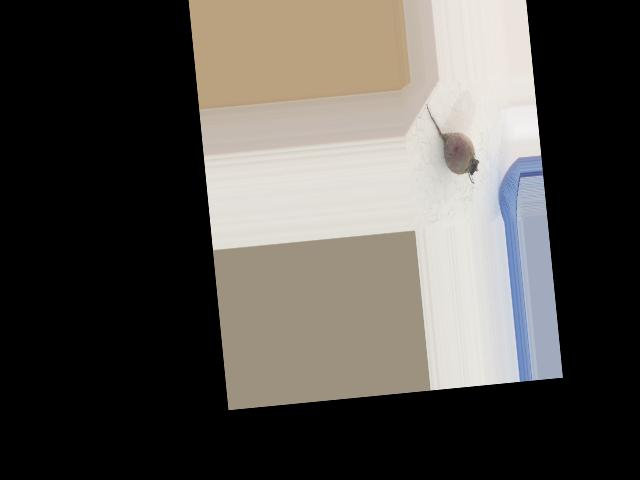beet: (425, 99, 480, 186)
